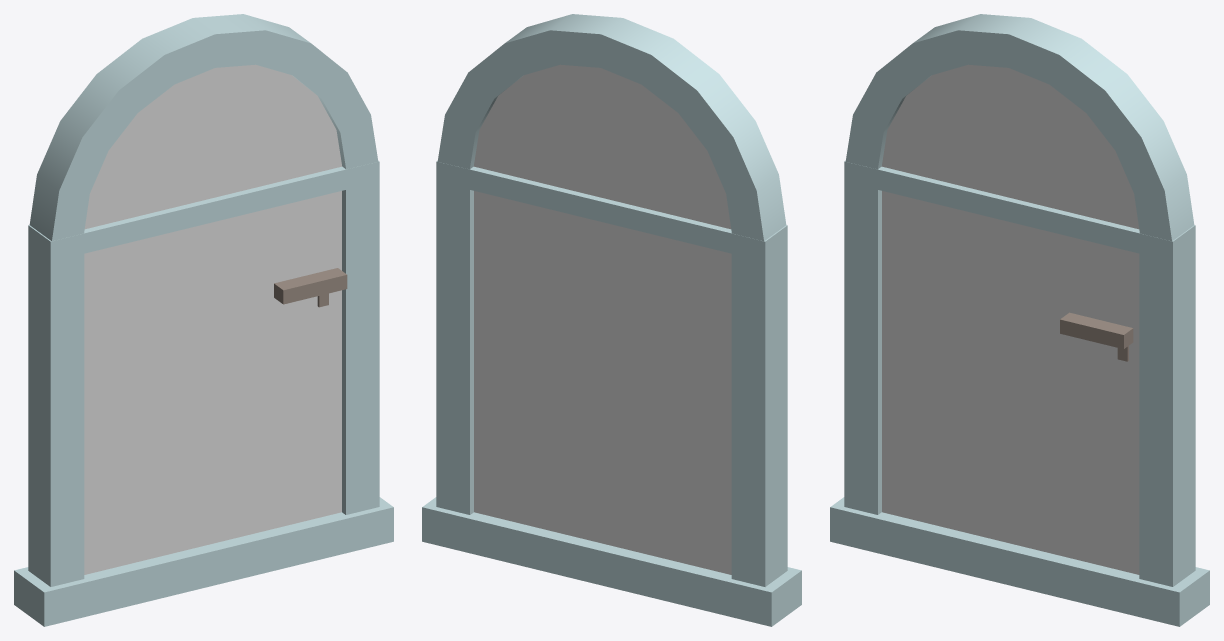
File: kapı 2.1.2.fbx
The picture shows the model from 3 angles, left to right: view 1: azimuth 30°, elevation 25°; view 2: azimuth 150°, elevation 25°; view 3: azimuth 330°, elevation 25°; orthographic projection.
Visible parts, largest first — view 1: pCube21; view 2: pCube21; view 3: pCube21.
Boxes of the visible parts, bbox=[...] form: pCube21: bbox=[14, 14, 393, 626]; pCube21: bbox=[422, 14, 801, 626]; pCube21: bbox=[830, 14, 1209, 626].
Size of the model in its own units: 967 by 1446 by 167.
